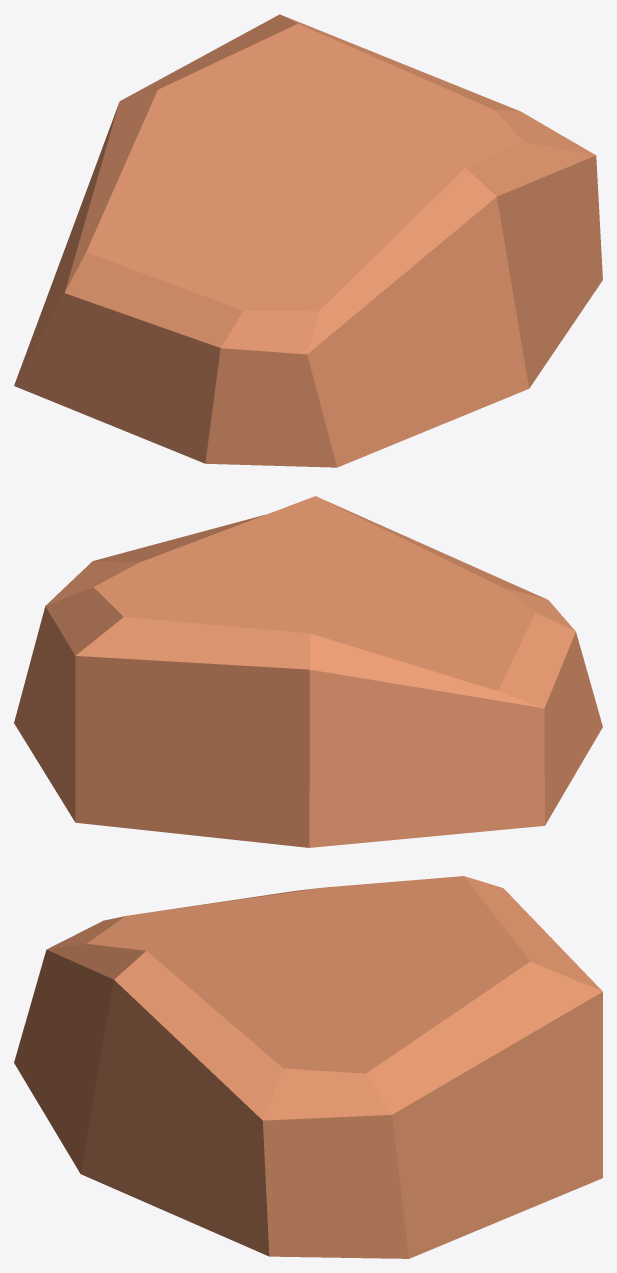
Rendered from Stone006.fbx.
3 renders of one model, top to bottom at view 1: azimuth 30°, elevation 25°; view 2: azimuth 150°, elevation 25°; view 3: azimuth 270°, elevation 25°, orthographic. The views are drawn at different scales.
Parts seen in each view (by area): view 1: Stone006; view 2: Stone006; view 3: Stone006.
Boxes of the visible parts, box(x1,y1,x2,y2) form: Stone006: box(14, 14, 602, 467); Stone006: box(14, 496, 602, 847); Stone006: box(14, 876, 602, 1258).
Bounding box in the file's own units: 0.594 × 0.2295 × 0.5384.
